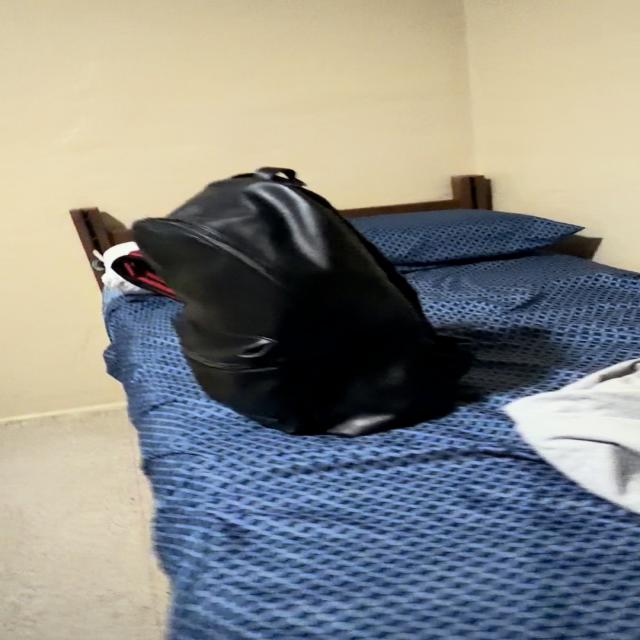backpack: (133, 168, 470, 435)
